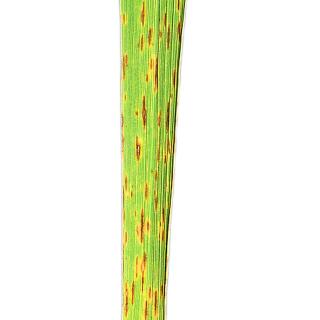Bercak-Cokelat-Sempit: (135, 206, 153, 252), (143, 282, 164, 320), (122, 170, 134, 226), (118, 92, 128, 158), (122, 279, 136, 320), (158, 204, 170, 246), (153, 140, 160, 210), (120, 229, 130, 277), (132, 132, 145, 166), (139, 92, 149, 132), (134, 0, 146, 30), (163, 7, 171, 51), (120, 50, 130, 84), (154, 54, 162, 95), (176, 18, 186, 50), (170, 66, 182, 92), (166, 95, 172, 135), (119, 7, 129, 31), (143, 177, 151, 203), (137, 32, 145, 56), (157, 107, 163, 135), (146, 27, 154, 47)
